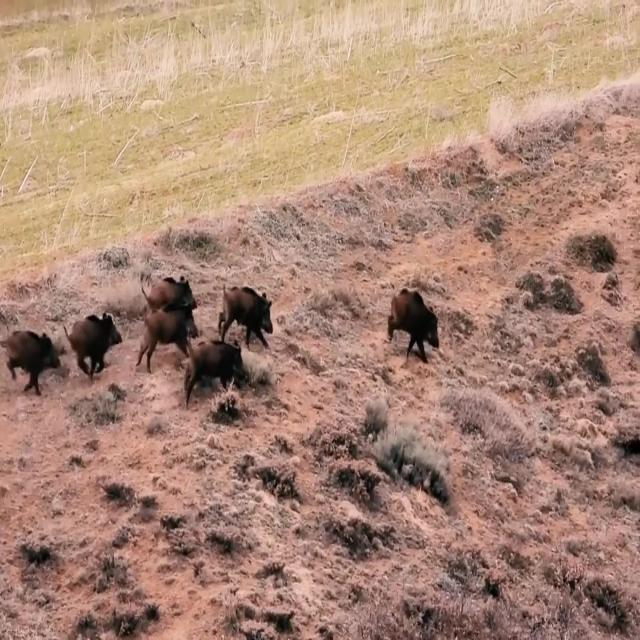pig: (56, 286, 127, 380), (172, 335, 255, 411), (211, 262, 285, 346), (379, 277, 444, 369), (0, 308, 54, 404), (140, 296, 192, 362)
